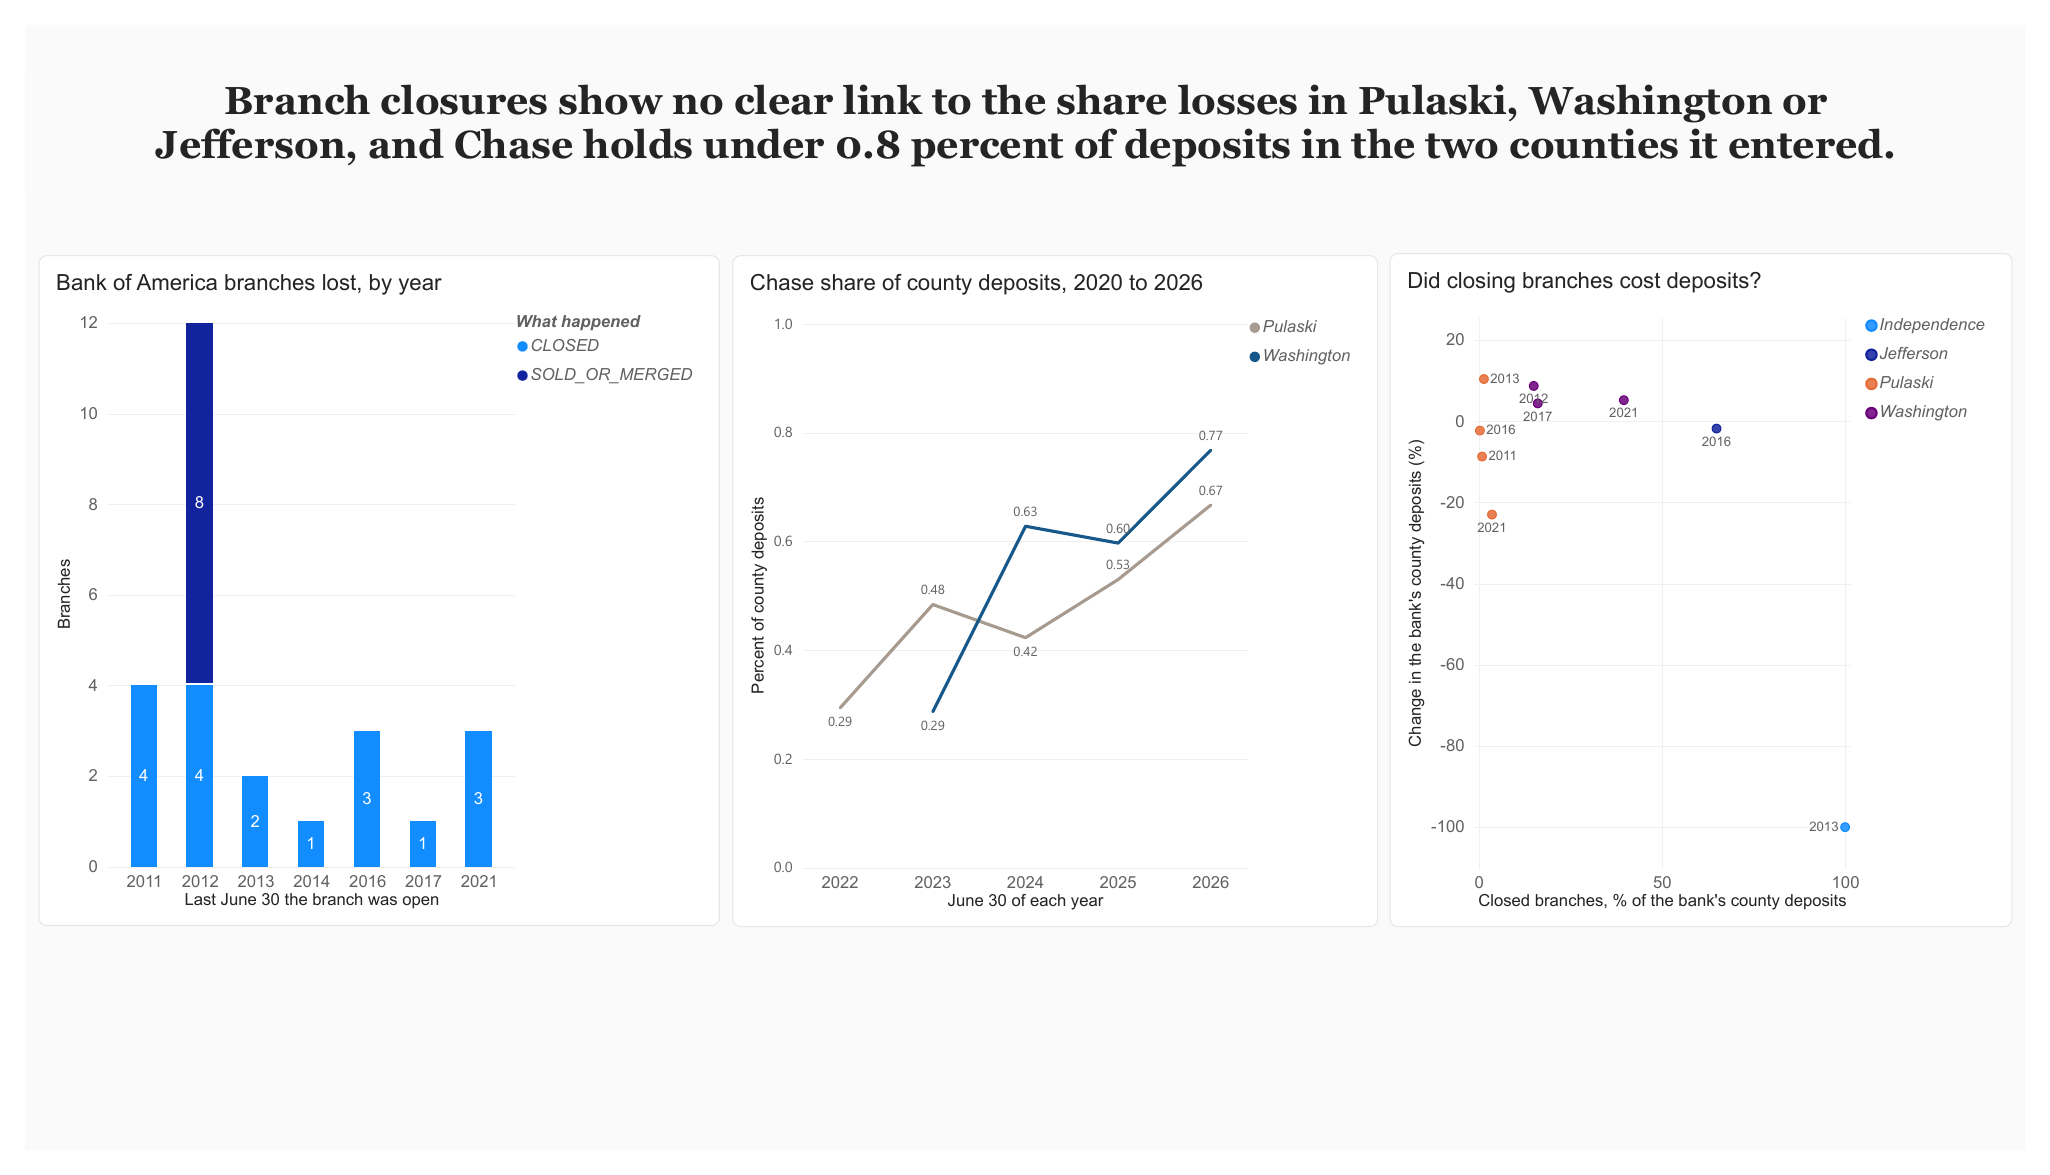

This screenshot's page, from the dashboard's own definition file:
{"tool":"powerbi","page":{"name":"Closures and Chase","canvas":[1920,1080],"ordinal":3},"visuals":[{"type":"columnChart","title":"Bank of America branches lost, by year","fields":{"Category":["cln vw_BranchTransition.sod_year"],"Series":["cln vw_BranchTransition.next_year_status"],"Y":["Count(cln vw_BranchTransition.branch_key)"]},"box":[13.1,220.9,654,643.9],"z":0},{"type":"lineChart","title":"Chase share of county deposits, 2020 to 2026","fields":{"Category":["cln vw_BankCountyYear.sod_year"],"Series":["cln vw_BankCountyYear.county_name"],"Y":["Max(cln vw_BankCountyYear.market_share_pct)"]},"box":[678.8,220.9,620.6,645.3],"z":1000},{"type":"scatterChart","title":"Did closing branches cost deposits?","fields":{"Category":["cln vw_ClosureImpact.june_30_of","cln vw_ClosureImpact.county_name"],"Series":["cln vw_ClosureImpact.county_name"],"X":["Max(cln vw_ClosureImpact.closed_pct_of_boa_county)"],"Y":["Max(cln vw_ClosureImpact.boa_deposit_change_pct)"]},"box":[1309.6,219.5,598.8,646.8],"z":2000},{"type":"textbox","box":[91.6,52.3,1738.3,106.1],"z":3000}]}

Visuals, with their boxes in screenshot pixels (x1, y1, x2, y2), scaled from the page's 1920x1080 canvas onto the 2050x1175 screenshot:
"Bank of America branches lost, by year" columnChart: BBox(14, 240, 712, 941)
"Chase share of county deposits, 2020 to 2026" lineChart: BBox(725, 240, 1387, 942)
"Did closing branches cost deposits?" scatterChart: BBox(1398, 239, 2038, 943)
textbox: BBox(98, 57, 1954, 172)
